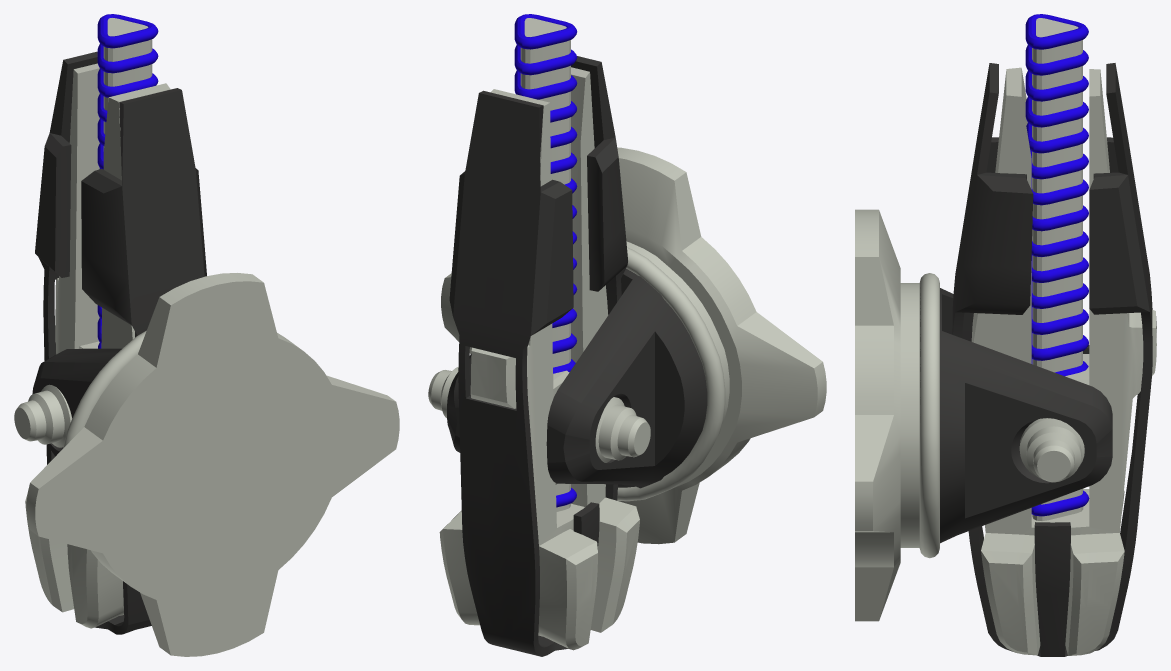
The model's file is PlasmaCanon3.fbx.
3 views of the same model, side by side, from view 1: azimuth 30°, elevation 25°; view 2: azimuth 150°, elevation 25°; view 3: azimuth 270°, elevation 25° (orthographic). The views are drawn at different scales.
Visible parts, largest first — view 1: Cylinder.002, Cylinder.009, Cylinder.007, Cylinder.006_Curve, Cylinder.004, Cylinder.005, Cylinder.006, Cylinder.004_Curve; view 2: Cylinder.009, Cylinder.007, Cylinder.002, Cylinder.004, Cylinder.004_Curve, Cylinder.006_Curve, Cylinder.006, Cylinder.005; view 3: Cylinder.009, Cylinder.007, Cylinder.004, Cylinder.002, Cylinder.006_Curve, Cylinder.006, Cylinder.004_Curve, Cylinder.005.
Part boxes in pixels (<box>): Cylinder.002: <box>26,273,399,656</box>; Cylinder.009: <box>35,51,206,634</box>; Cylinder.007: <box>25,63,170,628</box>; Cylinder.006_Curve: <box>97,14,158,348</box>; Cylinder.004: <box>32,348,121,456</box>; Cylinder.005: <box>14,384,72,447</box>; Cylinder.006: <box>103,18,152,151</box>; Cylinder.004_Curve: <box>63,330,146,447</box>; Cylinder.009: <box>449,56,627,656</box>; Cylinder.007: <box>439,67,639,650</box>; Cylinder.002: <box>441,147,826,544</box>; Cylinder.004: <box>447,268,707,488</box>; Cylinder.004_Curve: <box>617,247,725,501</box>; Cylinder.006_Curve: <box>514,14,577,507</box>; Cylinder.006: <box>520,18,570,511</box>; Cylinder.005: <box>428,367,650,462</box>; Cylinder.009: <box>952,63,1152,656</box>; Cylinder.007: <box>971,67,1156,655</box>; Cylinder.004: <box>940,288,1112,543</box>; Cylinder.002: <box>855,209,919,621</box>; Cylinder.006_Curve: <box>1025,14,1089,516</box>; Cylinder.006: <box>1032,18,1083,520</box>; Cylinder.004_Curve: <box>919,273,939,558</box>; Cylinder.005: <box>1019,418,1084,482</box>.
Size of the model in its own units: 1669 by 2580 by 1150.
